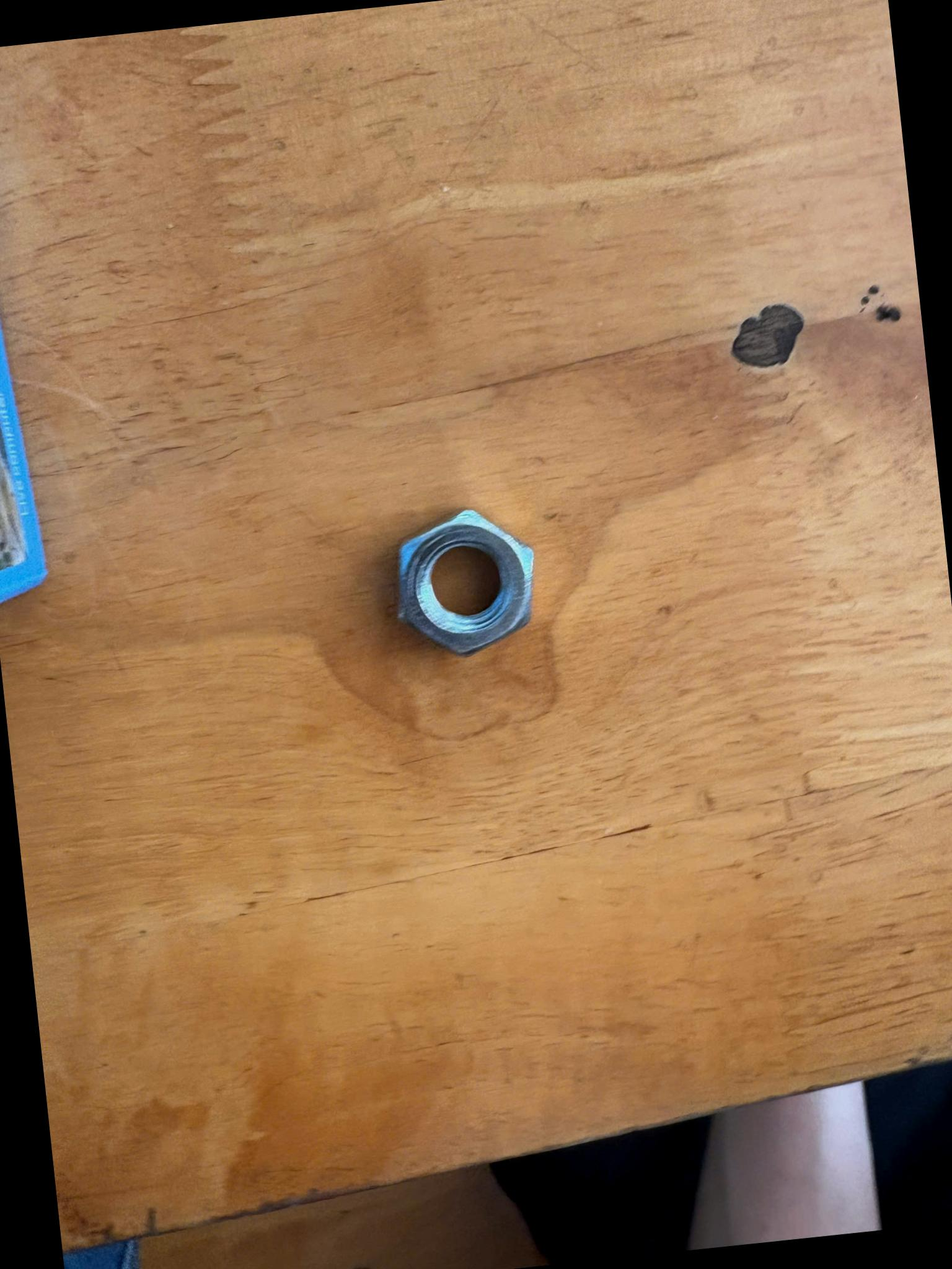nut: (371, 470, 573, 681)
